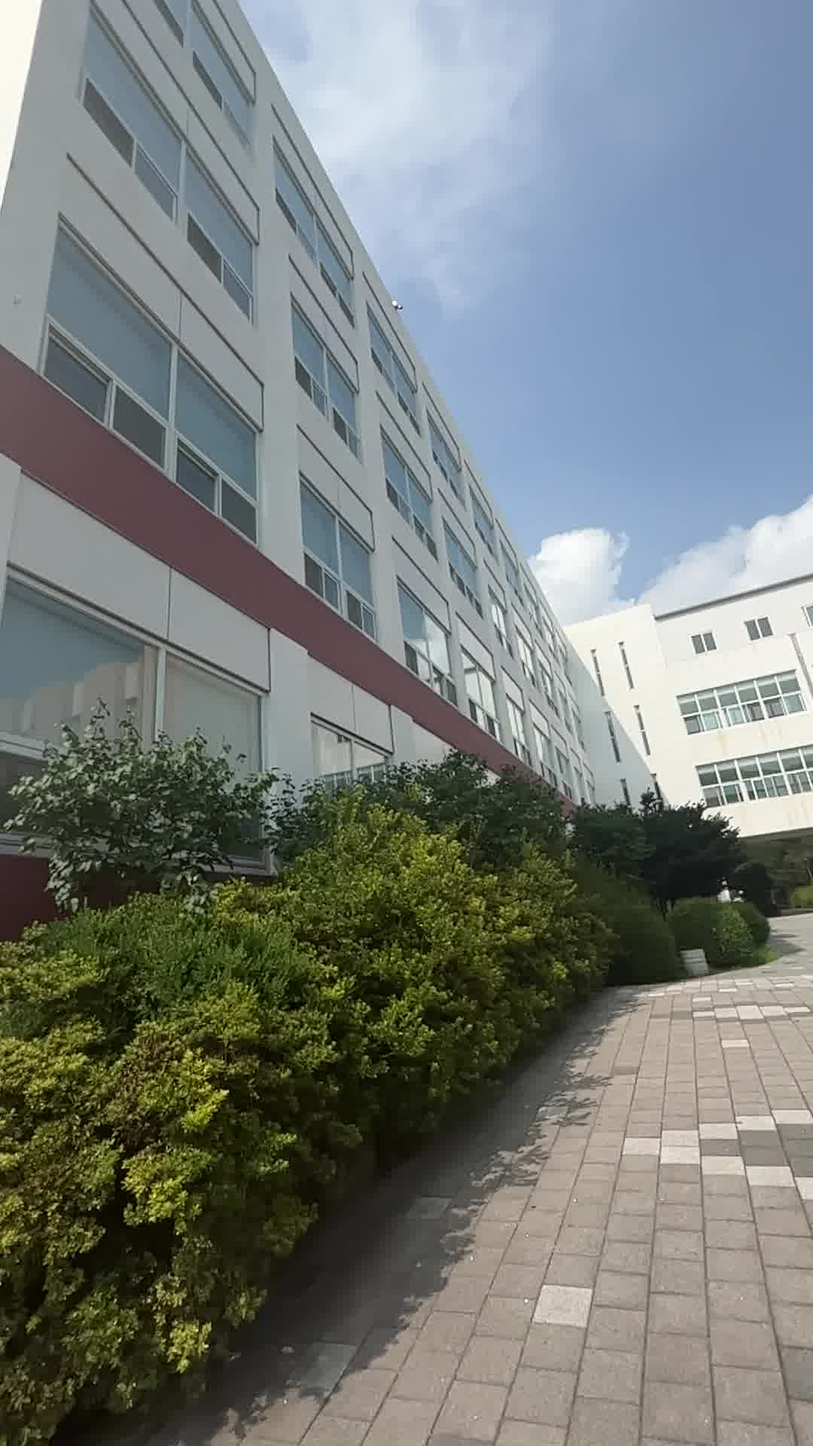medium: (0, 0, 813, 795)
